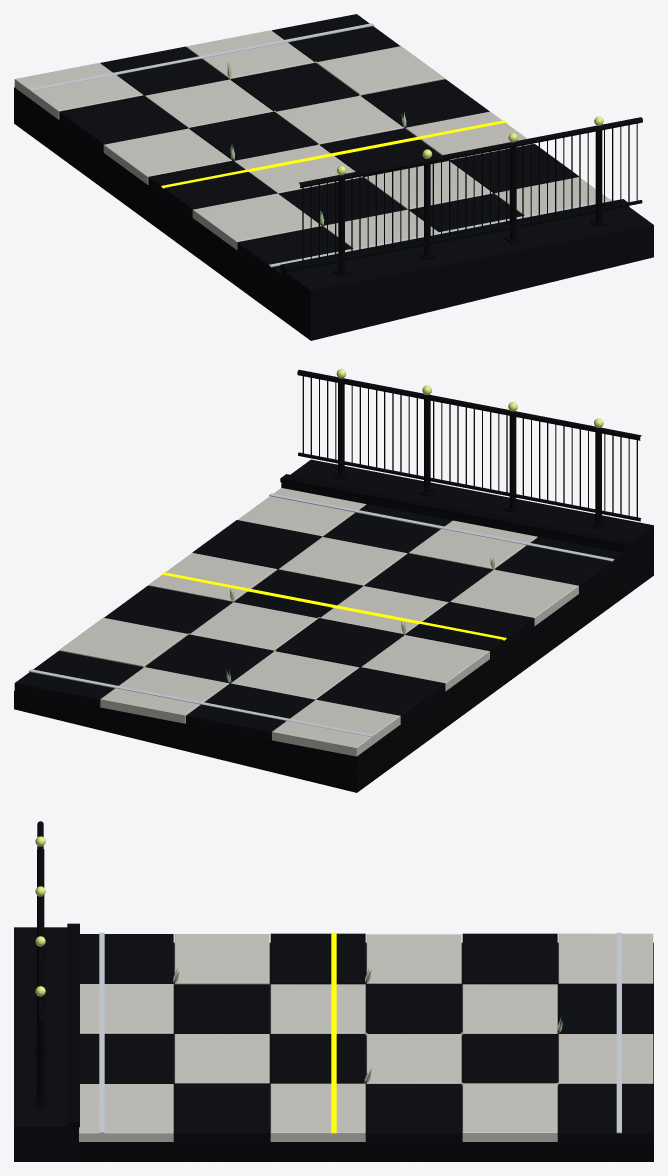
File: tt_terrace_ramp.glb
3 renders of one model, top to bottom at view 1: azimuth 30°, elevation 25°; view 2: azimuth 150°, elevation 25°; view 3: azimuth 270°, elevation 25°, orthographic. The views are drawn at different scales.
Visible parts, largest first — view 1: Pavers_B, Pavers_A, Ramp_Kerb, Guard_Frame, Ramp_Body, Kerb_Coping, Court_Strips_White, Court_Strip_Amber; view 2: Pavers_B, Pavers_A, Ramp_Body, Guard_Frame, Ramp_Kerb, Kerb_Coping, Court_Strips_White, Court_Strip_Amber; view 3: Pavers_B, Pavers_A, Ramp_Body, Ramp_Kerb, Kerb_Coping, Court_Strips_White, Guard_Frame, Court_Strip_Amber.
Part boxes in pixels (left/top/right/bottom): Pavers_B: left=59, top=14, right=578, bottom=282; Pavers_A: left=14, top=30, right=609, bottom=249; Ramp_Kerb: left=281, top=207, right=653, bottom=340; Guard_Frame: left=298, top=117, right=642, bottom=276; Ramp_Body: left=14, top=87, right=281, bottom=318; Kerb_Coping: left=280, top=199, right=629, bottom=272; Court_Strips_White: left=28, top=23, right=613, bottom=267; Court_Strip_Amber: left=161, top=120, right=506, bottom=188; Pavers_B: left=14, top=504, right=623, bottom=739; Pavers_A: left=59, top=488, right=578, bottom=756; Ramp_Body: left=14, top=561, right=624, bottom=792; Guard_Frame: left=297, top=369, right=641, bottom=529; Ramp_Kerb: left=281, top=459, right=653, bottom=596; Kerb_Coping: left=280, top=474, right=629, bottom=547; Court_Strips_White: left=28, top=493, right=614, bottom=737; Court_Strip_Amber: left=161, top=572, right=506, bottom=640; Pavers_B: left=80, top=933, right=653, bottom=1141; Pavers_A: left=79, top=933, right=653, bottom=1141; Ramp_Body: left=78, top=942, right=653, bottom=1161; Ramp_Kerb: left=14, top=927, right=77, bottom=1161; Kerb_Coping: left=67, top=923, right=79, bottom=1127; Court_Strips_White: left=99, top=932, right=621, bottom=1133; Guard_Frame: left=34, top=821, right=47, bottom=1110; Court_Strip_Amber: left=331, top=932, right=336, bottom=1133.
Size of what is drawn, in the model's own units: 4 by 1.73 by 6.
Materials: 8 (3 with a texture image).
